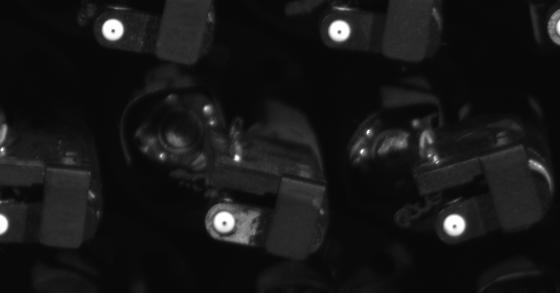fiber: (209, 205, 241, 241), (439, 210, 471, 241), (323, 18, 354, 44), (98, 16, 126, 44), (1, 205, 16, 240)
